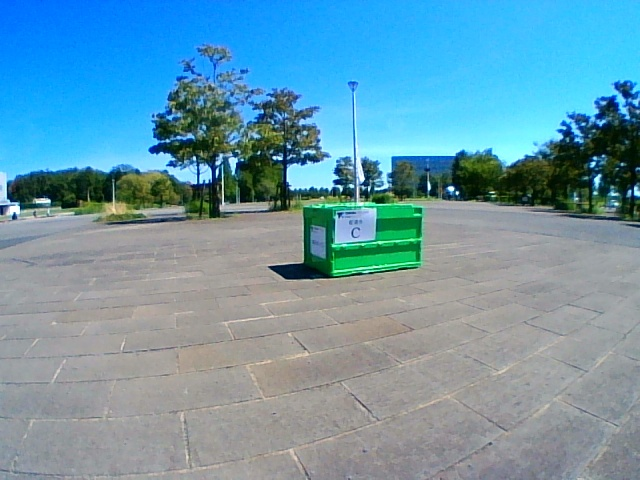green_box: (304, 203, 423, 276)
tag_c: (337, 210, 375, 241)
